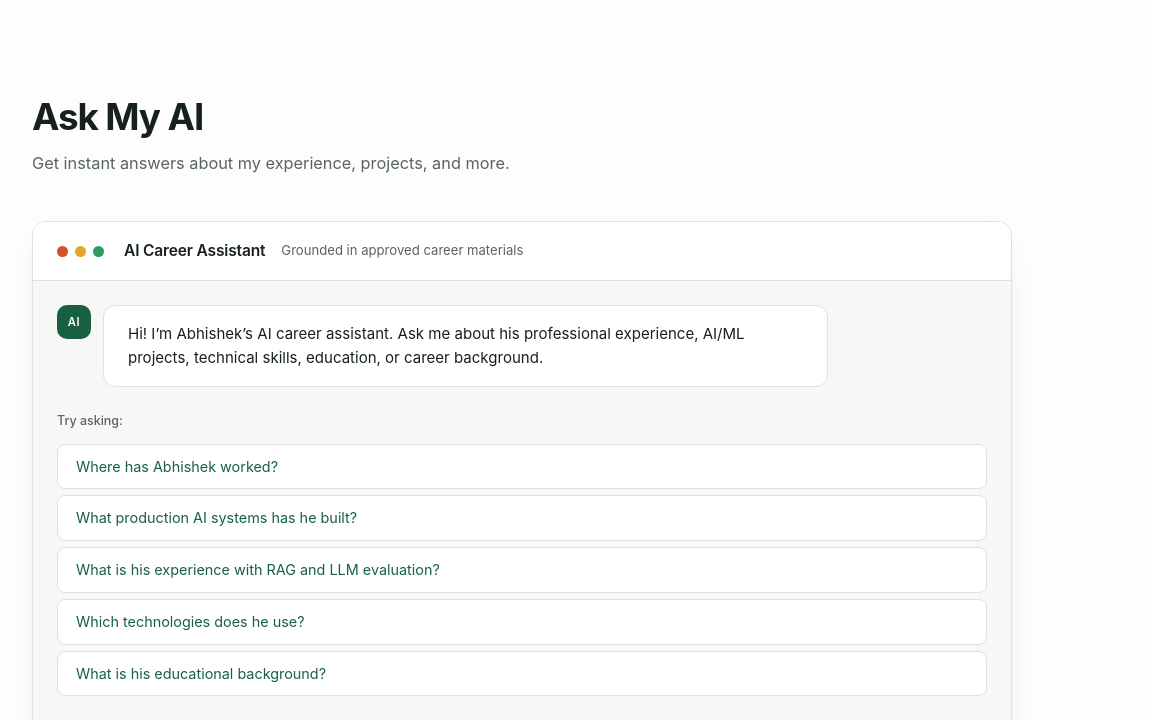
AI career assistant › shows the graceful unavailable message when the backend cannot be reached
Step 1. Click the button "Where has Abhishek worked?" → (177, 466), box top-left (57, 444), bottom-right (987, 489)
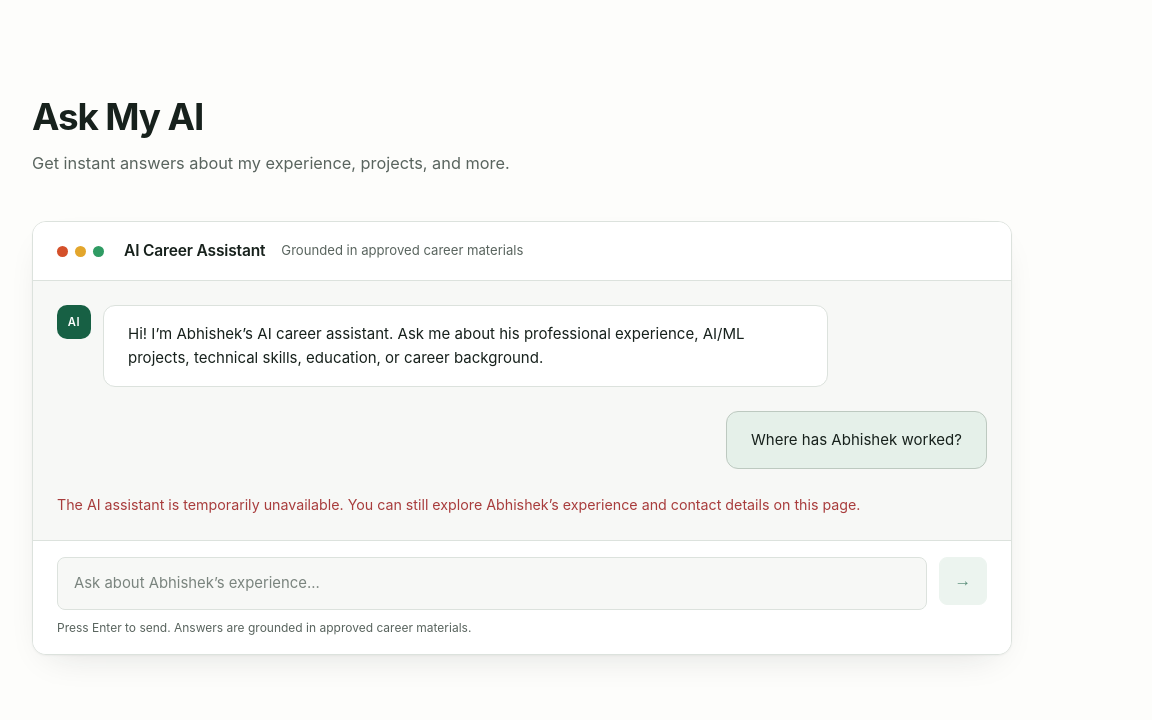
Expected: the message shows "temporarily unavailable", top-left (57, 496), bottom-right (860, 513)
Expected: the message shows "still explore", top-left (57, 496), bottom-right (860, 513)
